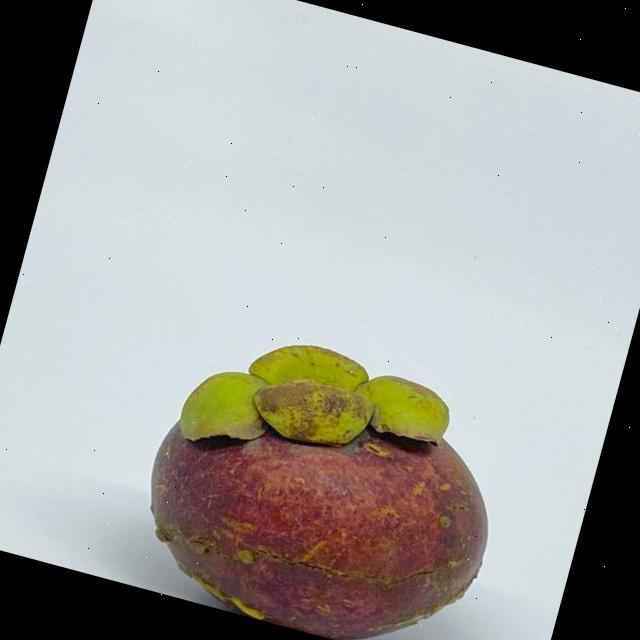mangosteen: (91, 284, 538, 640)
